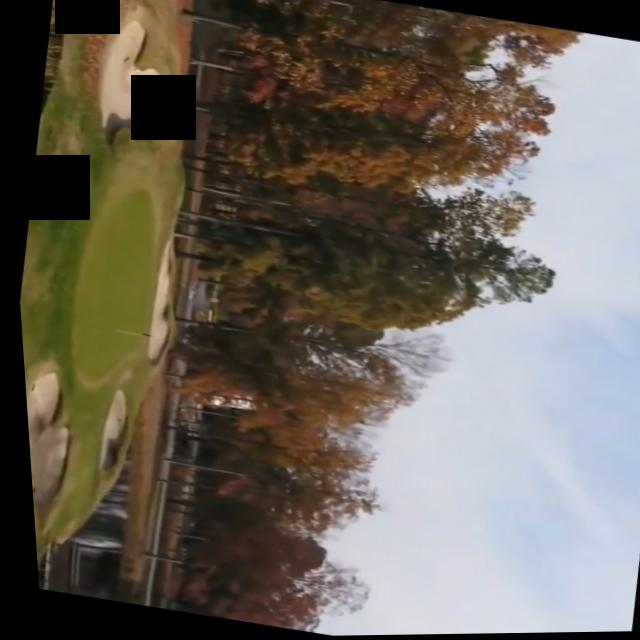Pole: (100, 323, 153, 348)
